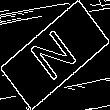N_SE: (26, 23, 84, 87)
